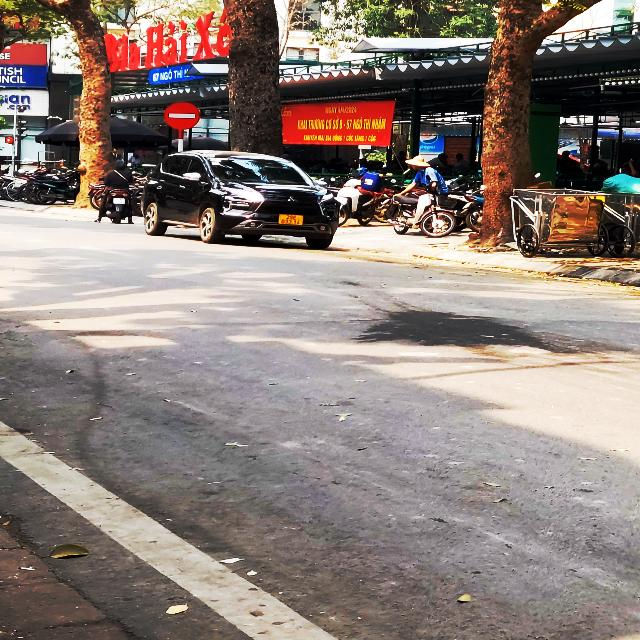license_plate: (277, 214, 307, 228)
